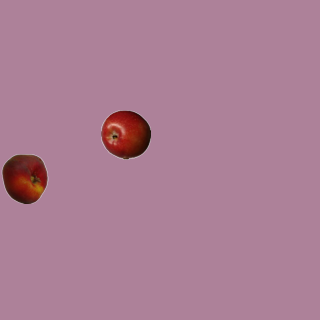Apple Braeburn: (100, 109, 150, 159)
Nectarine Flat: (0, 153, 49, 203)
